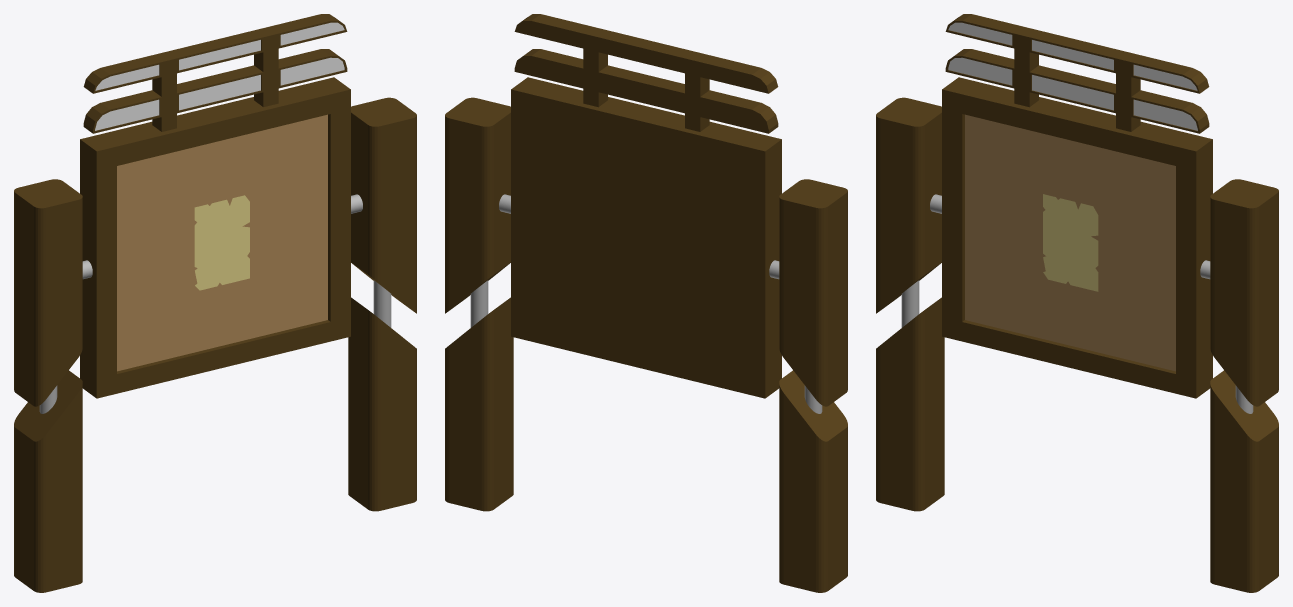
The model's file is TABLERO DE MISIONES.fbx.
3 views of the same model, side by side, from view 1: azimuth 30°, elevation 25°; view 2: azimuth 150°, elevation 25°; view 3: azimuth 330°, elevation 25° (orthographic).
Parts seen in each view (by area): view 1: Cube; view 2: Cube; view 3: Cube.
Part boxes in pixels (x1,y1,x2,y2): Cube: [14, 14, 416, 592]; Cube: [445, 14, 847, 592]; Cube: [876, 14, 1278, 592].
Size of the model in its own units: 800 by 987 by 100.
